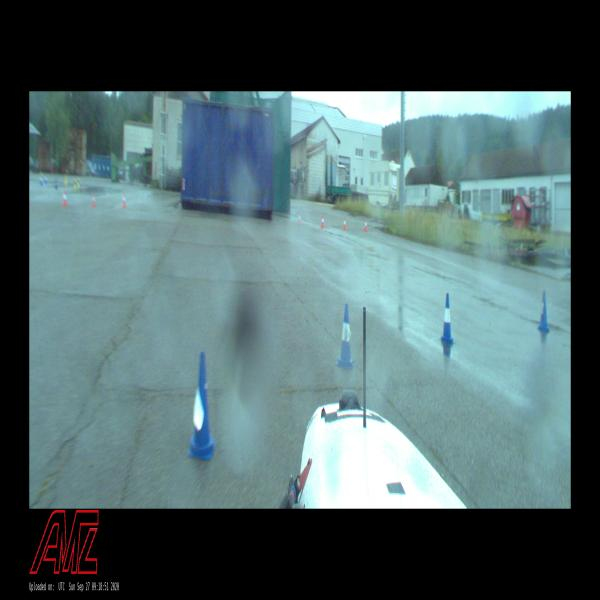blue_cone: (187, 352, 216, 459), (336, 304, 355, 367), (440, 294, 454, 344), (538, 291, 550, 334)
orange_cone: (62, 191, 67, 206), (122, 193, 126, 206), (321, 215, 325, 228), (343, 218, 347, 229), (364, 220, 368, 231), (92, 194, 95, 207), (298, 213, 301, 224)
